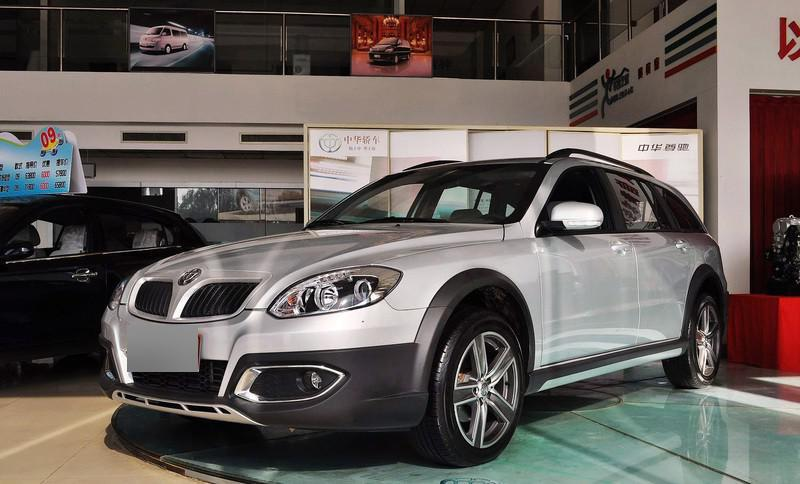Wagon: (96, 146, 732, 469)
